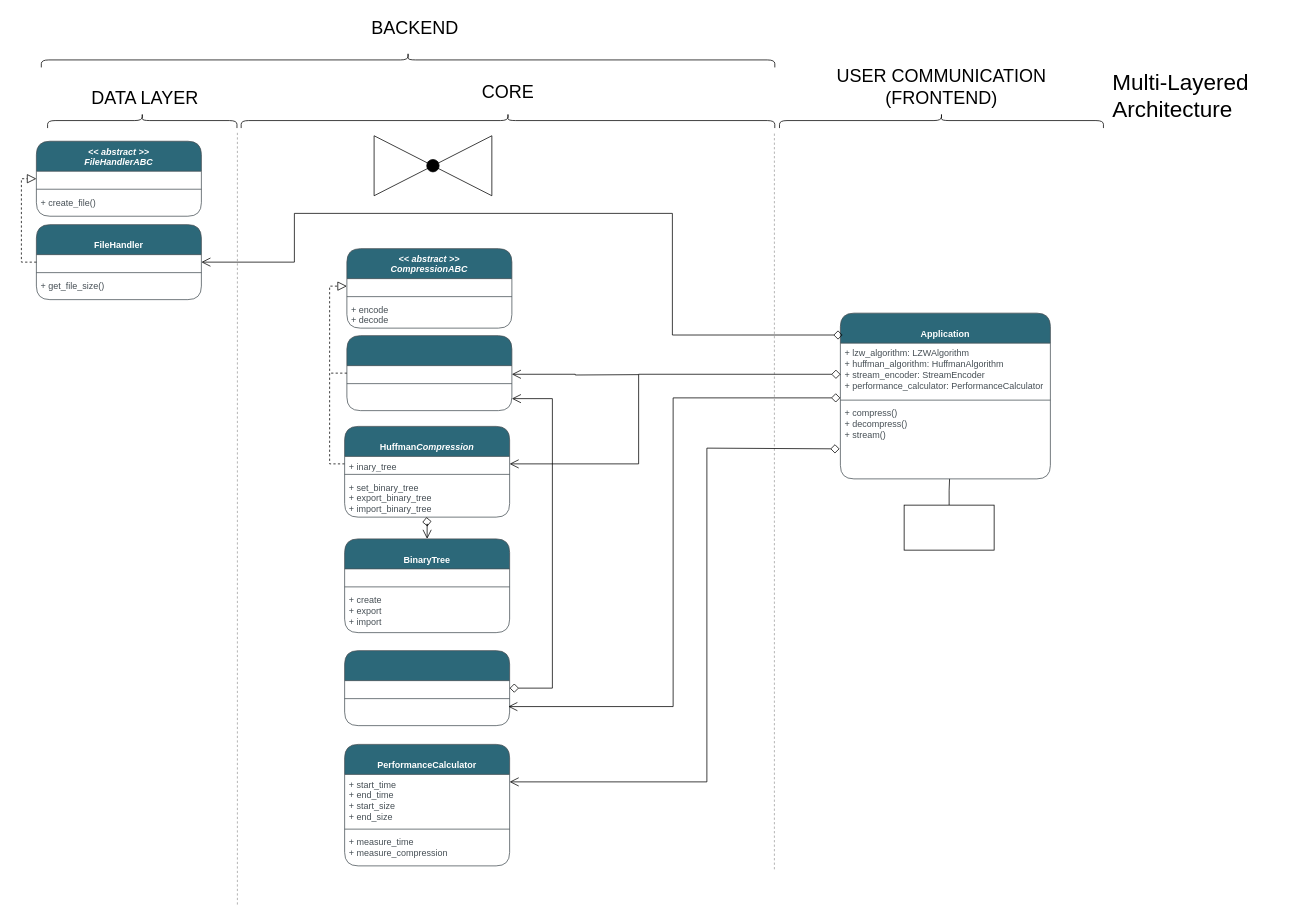
The diagram is 1314 pixels wide and 919 high, and some of its shapes have lost their labels. The centre of each missing label's shape, as x and y in pixels:
"LZW Compression" goes at point (429, 373).
"main.py" goes at point (948, 527).
"StreamEncoder" goes at point (427, 688).
